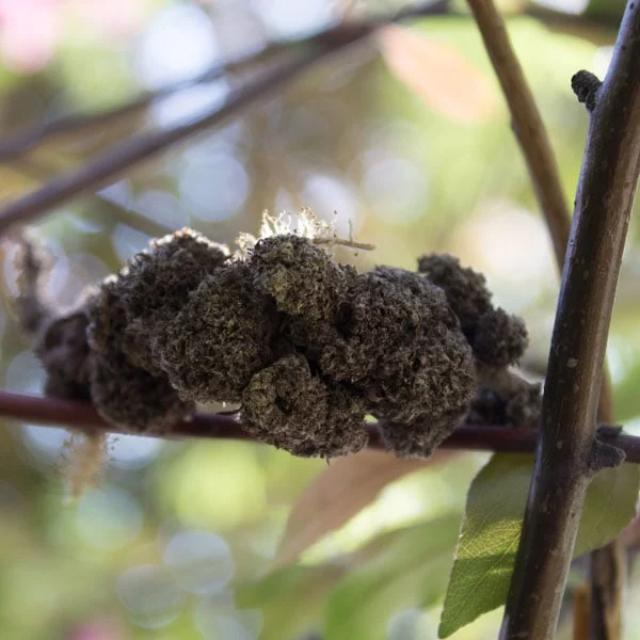Black_knot: (34, 214, 538, 463)
